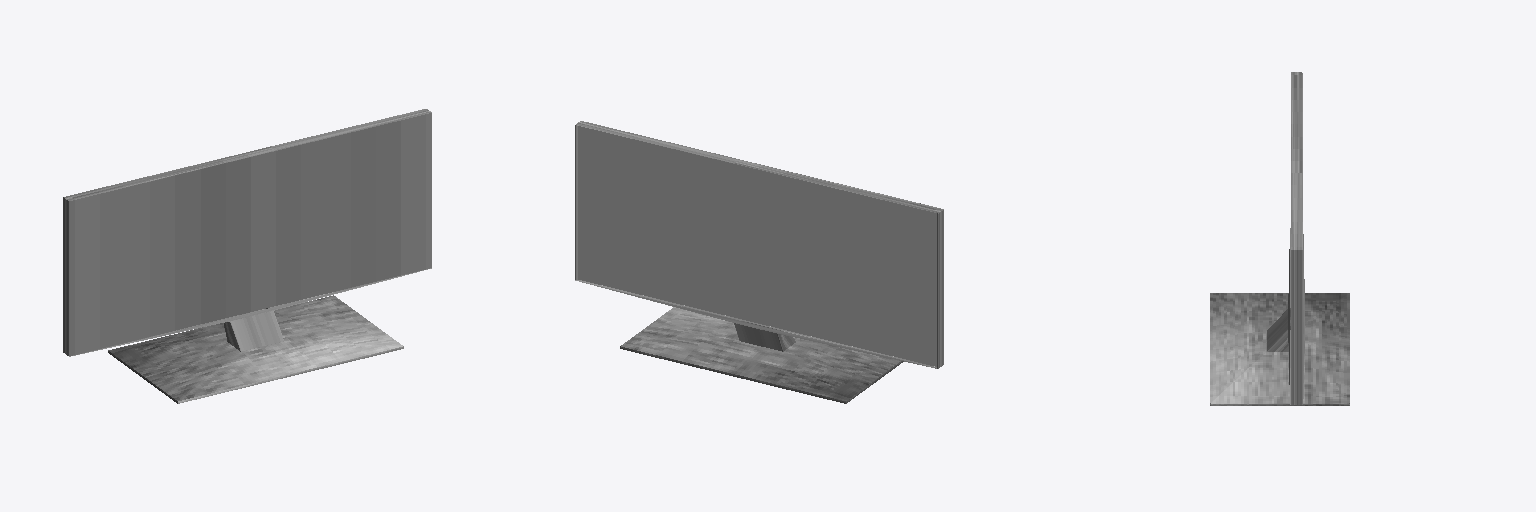
3 views of the same model, side by side, from view 1: azimuth 30°, elevation 25°; view 2: azimuth 150°, elevation 25°; view 3: azimuth 270°, elevation 25° (orthographic).
Parts seen in each view (by area): view 1: TV; view 2: TV; view 3: TV.
Part boxes in pixels (left/top/right/bottom): TV: left=63, top=109, right=431, bottom=403; TV: left=575, top=121, right=943, bottom=403; TV: left=1210, top=72, right=1349, bottom=405.
Size of the model in its own units: 6.02 by 3.01 by 2.
2 materials, 1 textured.